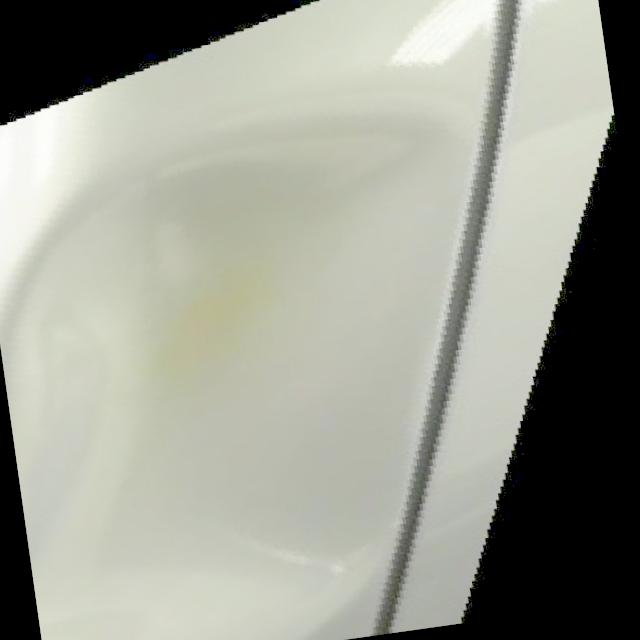dent: (0, 90, 543, 640)
